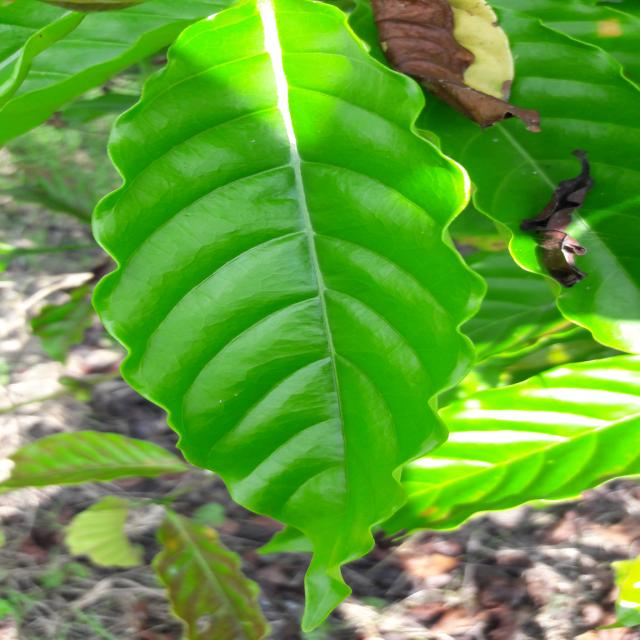Sanas: (91, 0, 488, 636)
